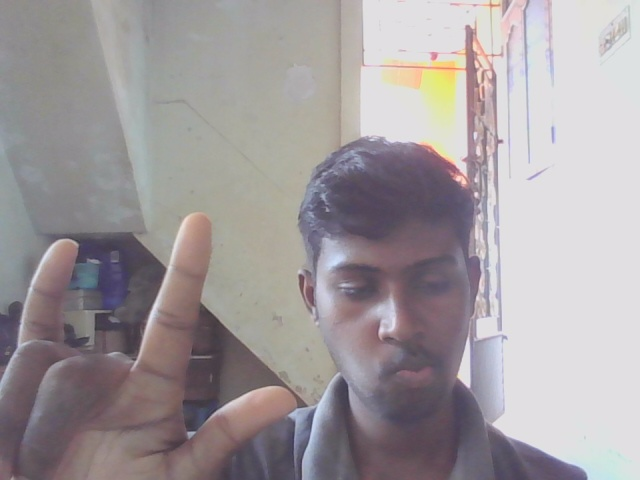I Love You: (2, 205, 305, 475)
